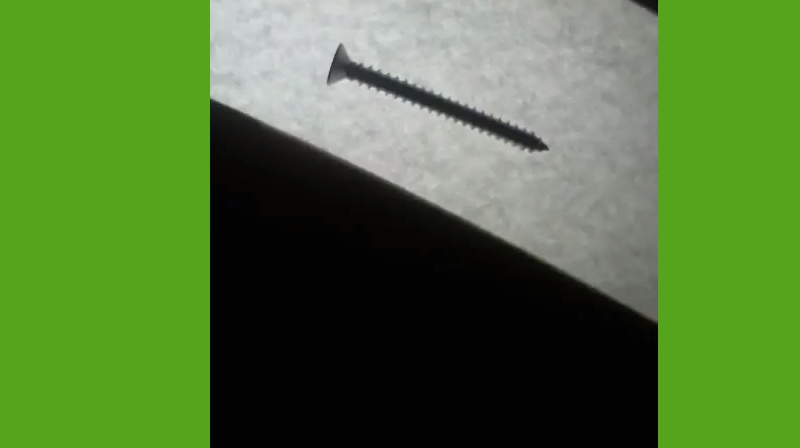S002: (320, 37, 551, 154)
